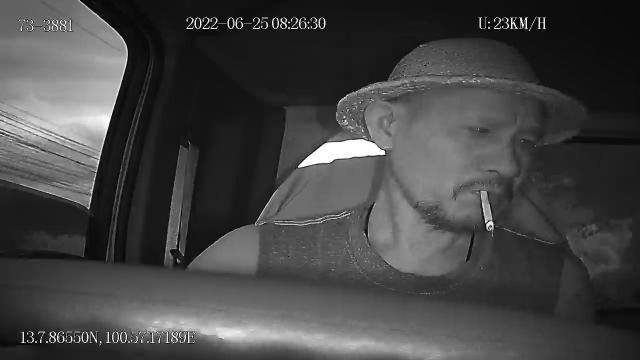Cigarette: (480, 190, 494, 232)
